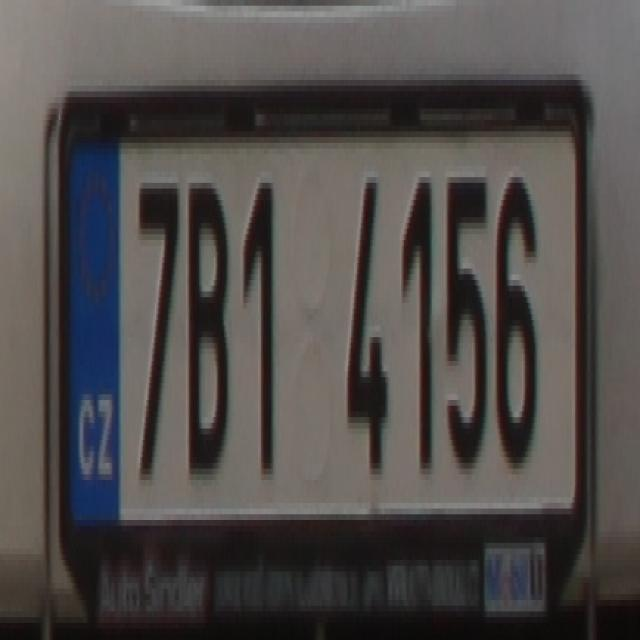1: (242, 177, 282, 480), (399, 171, 436, 480)
4: (344, 171, 389, 480)
5: (444, 165, 491, 468)
6: (496, 171, 544, 480)
7: (134, 177, 182, 480)
B: (186, 177, 228, 480)
